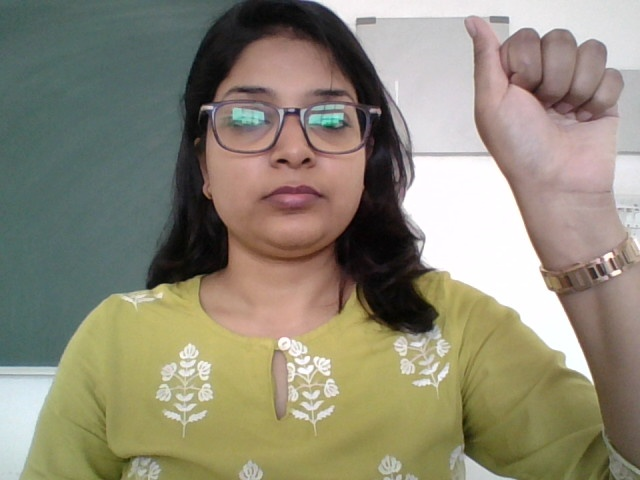A: (453, 12, 628, 223)
